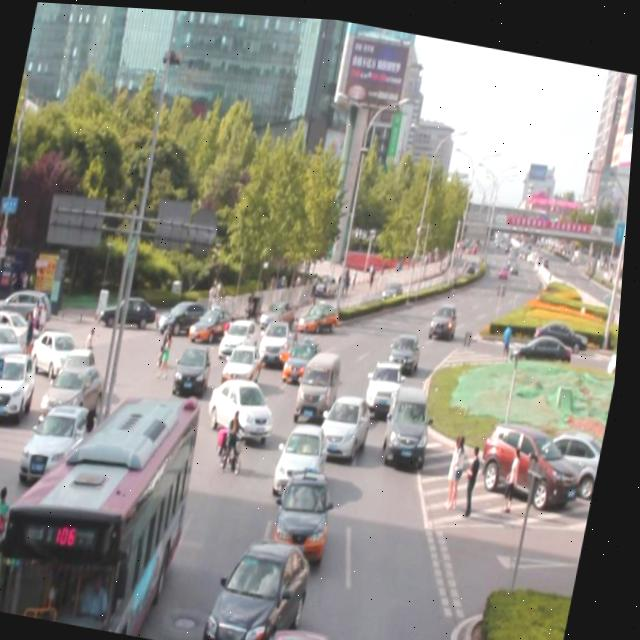car: (213, 527, 320, 640), (277, 462, 344, 560), (208, 369, 287, 442), (277, 414, 337, 496), (384, 378, 441, 460), (319, 385, 380, 460), (366, 350, 410, 413), (289, 323, 336, 379), (225, 334, 272, 388), (259, 309, 301, 369), (175, 337, 218, 394), (306, 287, 353, 332), (220, 312, 263, 361), (389, 324, 427, 373), (269, 616, 344, 640), (431, 294, 464, 337)
truck: (300, 340, 349, 414)
van: (0, 367, 212, 639)
